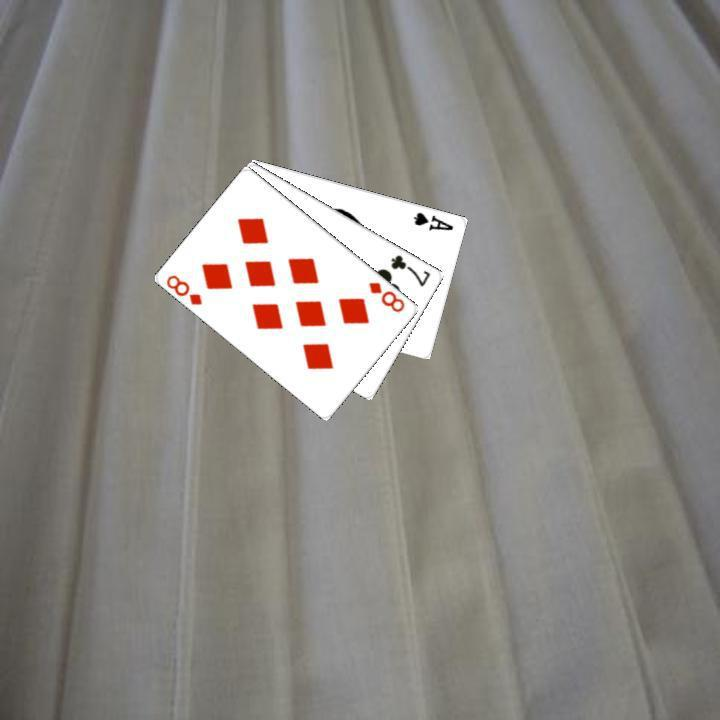7: (387, 250, 433, 288)
8: (364, 277, 407, 314), (162, 270, 205, 307)
A: (410, 207, 456, 232)
